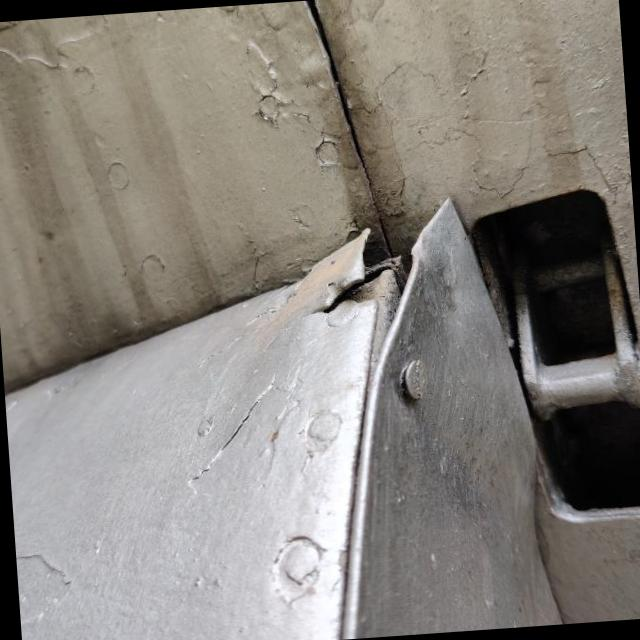Crack: (293, 257, 406, 362)
